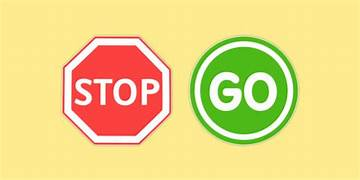stop: (61, 33, 172, 146)
